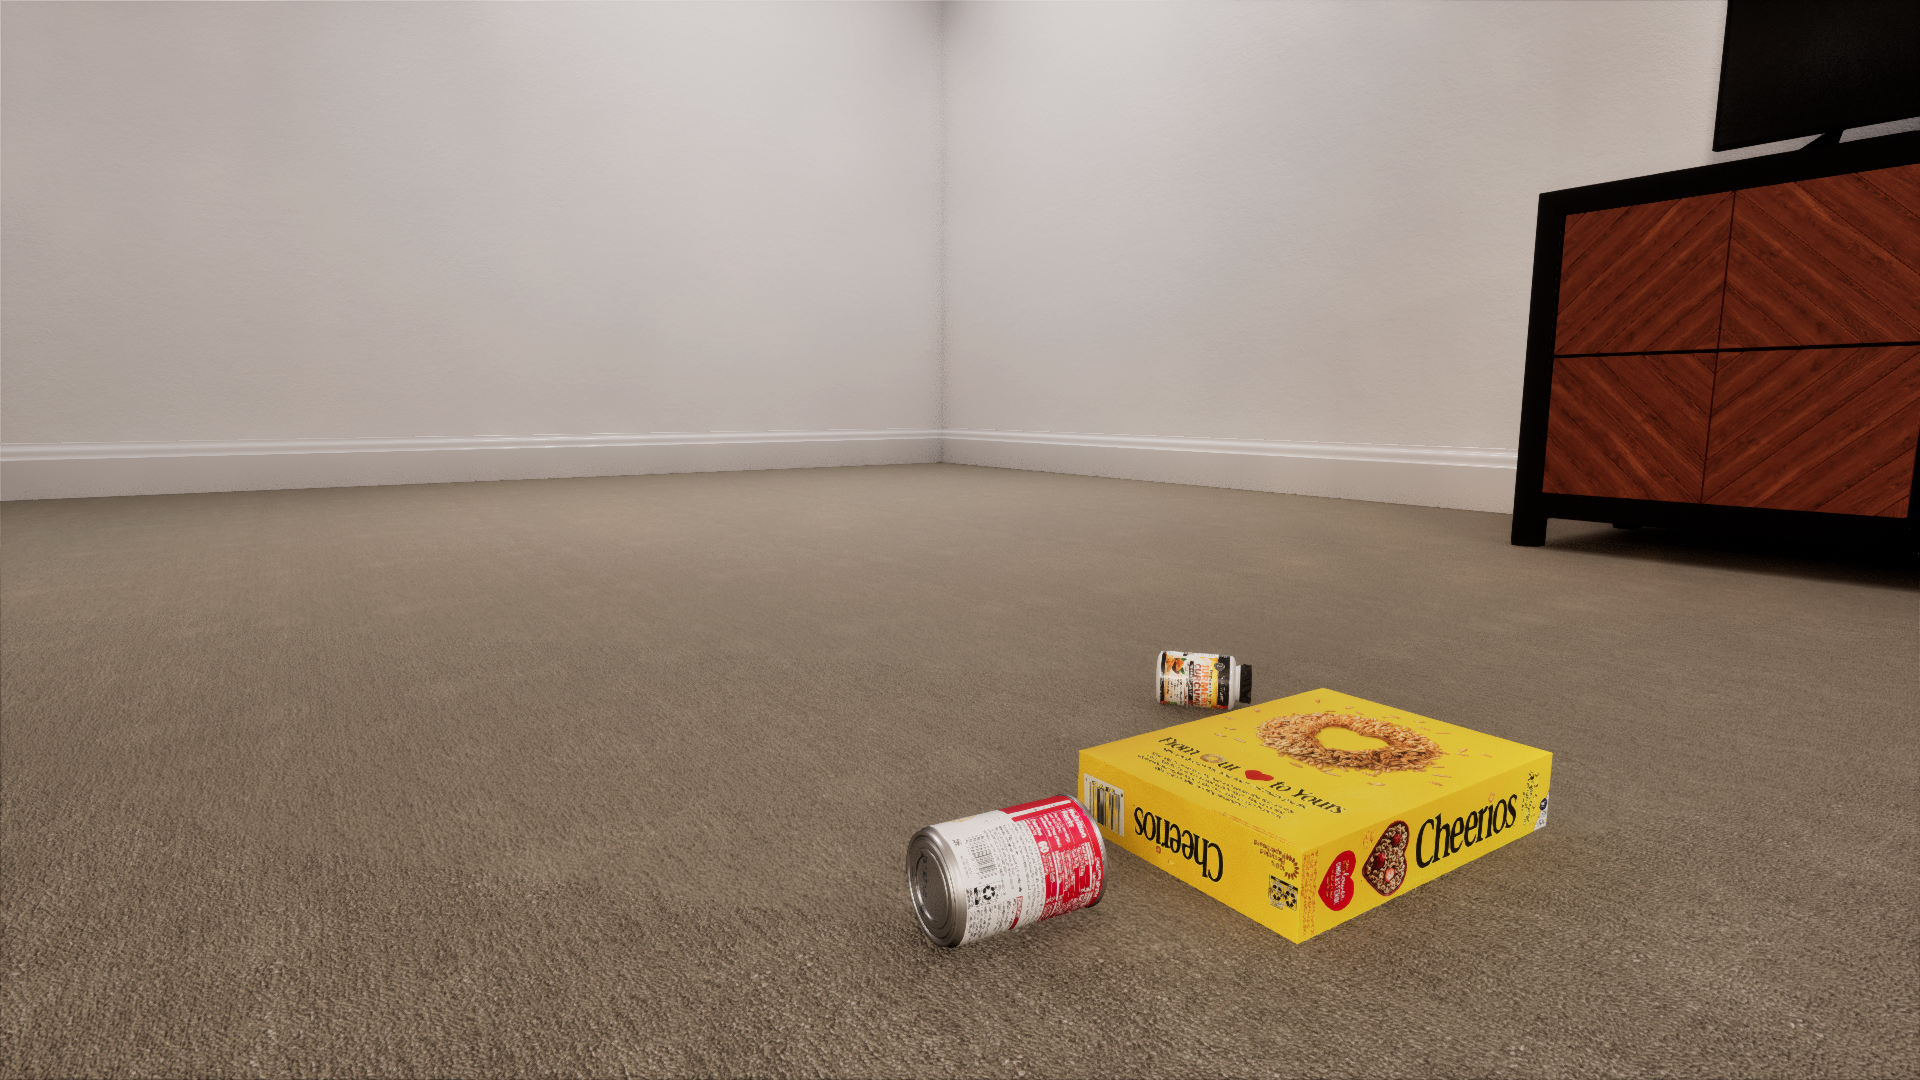cheerios: (1832, 88, 1920, 233)
